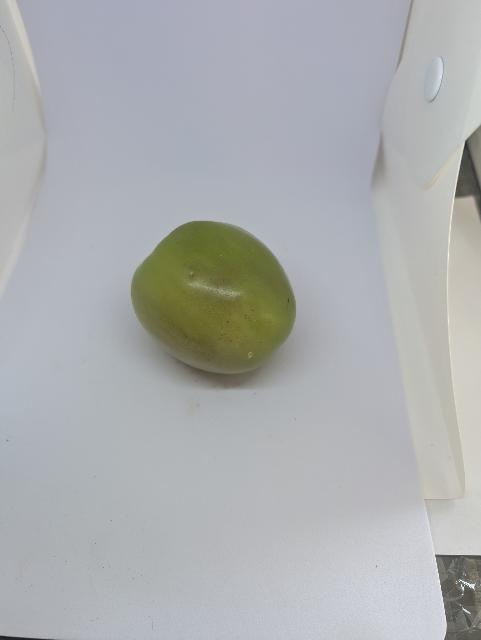green: (125, 215, 316, 388)
